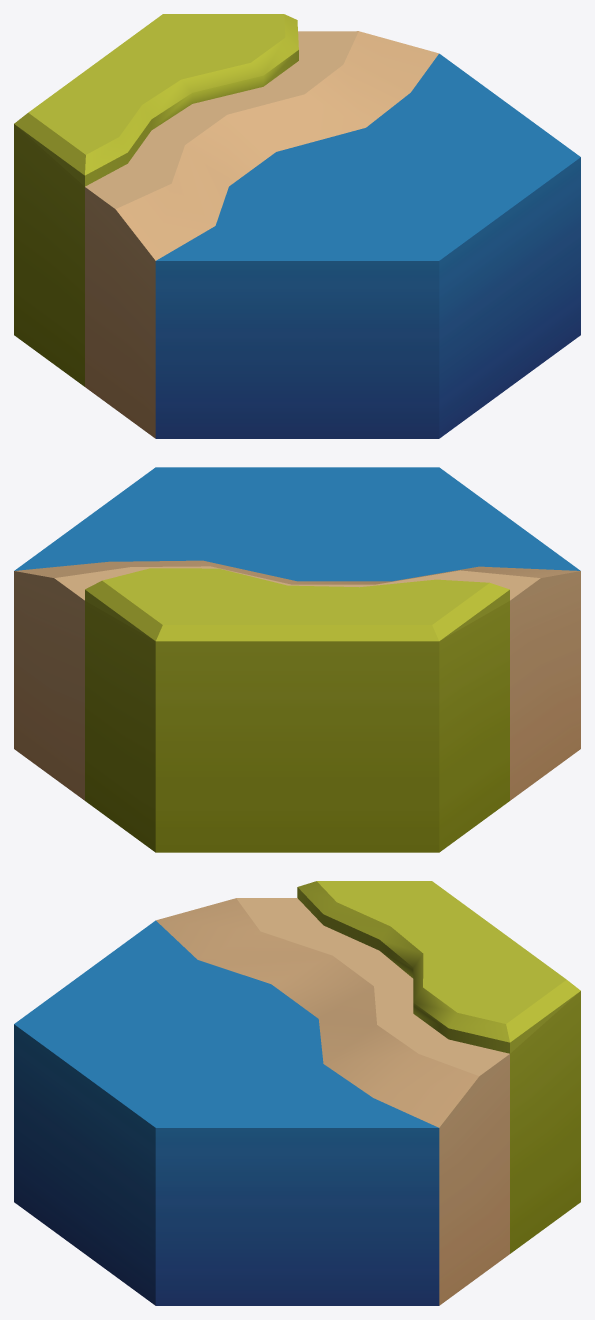
The model's file is hex_coast_c.glb.
The picture shows the model from 3 angles, top to bottom: view 1: azimuth 30°, elevation 25°; view 2: azimuth 150°, elevation 25°; view 3: azimuth 270°, elevation 25°; orthographic projection.
Parts seen in each view (by area): view 1: hex_coast_C; view 2: hex_coast_C; view 3: hex_coast_C.
Boxes of the visible parts, box(x1,y1,x2,y2) form: hex_coast_C: box(14, 14, 580, 438); hex_coast_C: box(14, 467, 580, 852); hex_coast_C: box(14, 881, 580, 1305).
Bounding box in the file's own units: 2 × 1 × 2.31.
Materials: 1 (1 with a texture image).
